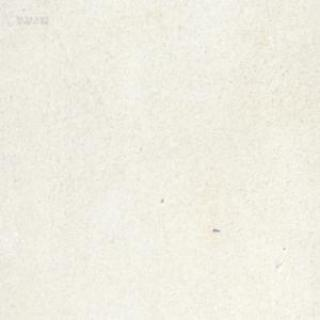Nailtrack_idkeyframe: (212, 226, 219, 231)
